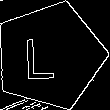L_N: (33, 30, 67, 81)
